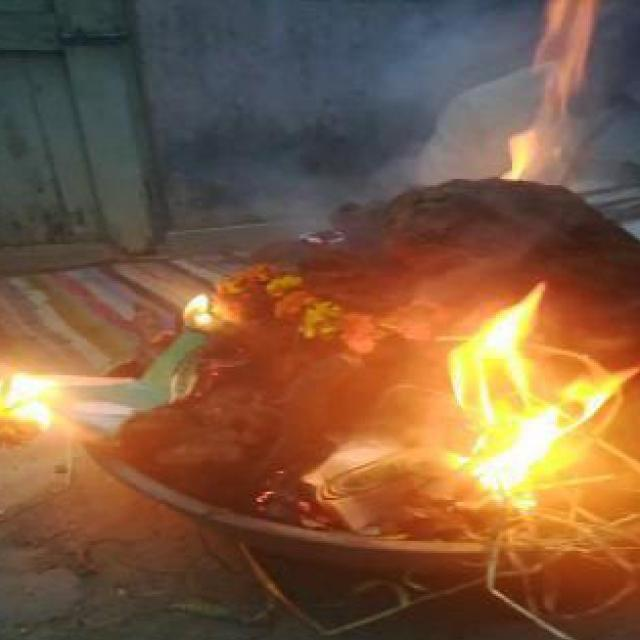fire: (254, 9, 496, 206)
smoke: (451, 283, 629, 510), (502, 1, 612, 187), (0, 342, 116, 442), (177, 288, 220, 334)
